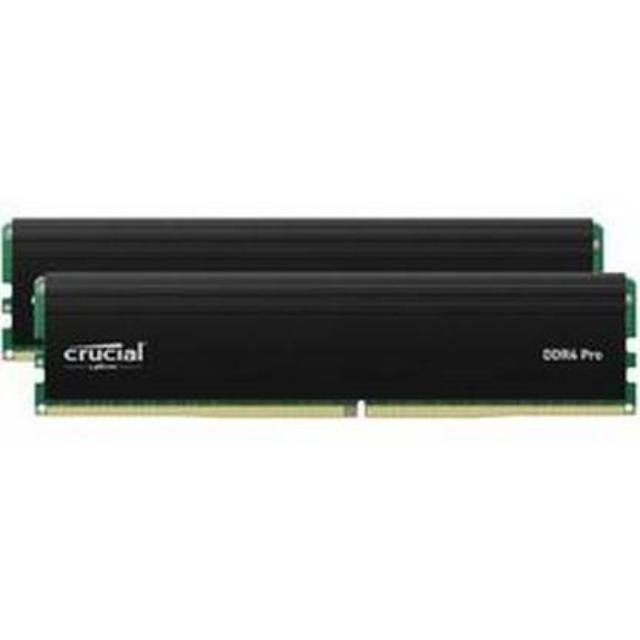RAM: (0, 204, 640, 426)
